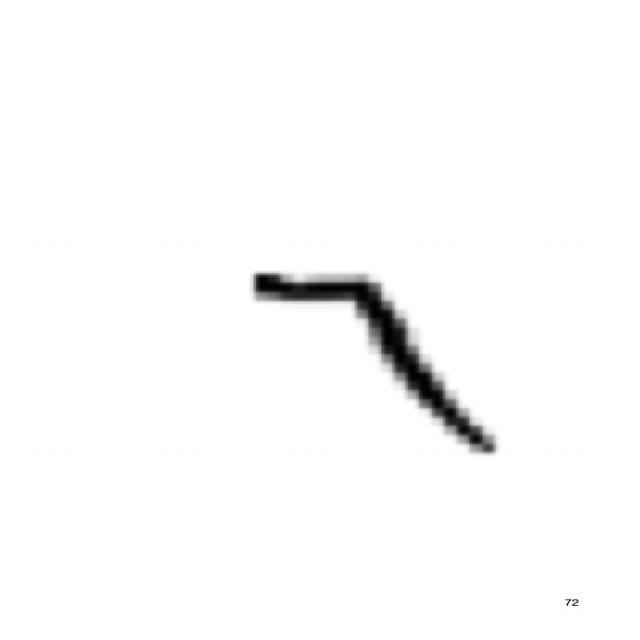6 -six-: (239, 260, 516, 467)
